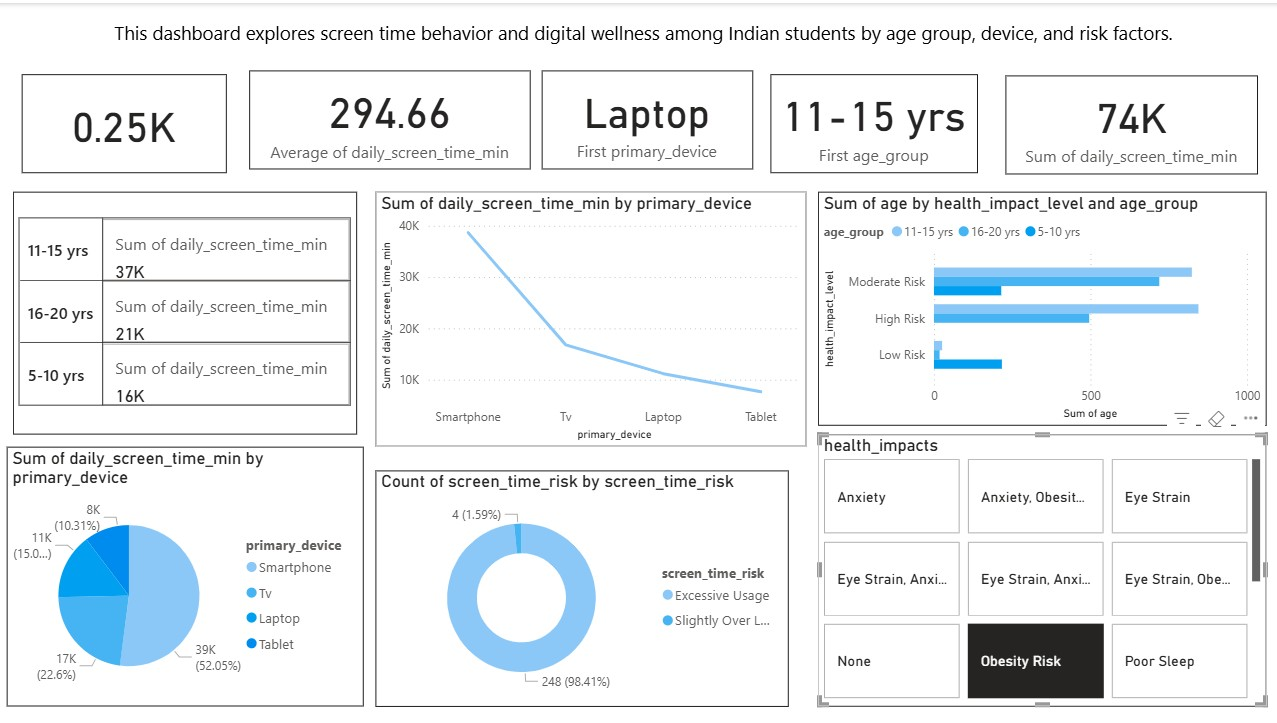

This screenshot's page, from the dashboard's own definition file:
{"tool":"powerbi","page":{"name":"Page 1","canvas":[1280,720],"ordinal":0},"visuals":[{"type":"card","title":"Total no of Kids","fields":{"Values":["CountNonNull(Indian_Kids_Screen_Time_Cleaned.age)"]},"box":[28.8,71.2,203.8,98.8],"z":0},{"type":"card","fields":{"Values":["Avg(Indian_Kids_Screen_Time_Cleaned.daily_screen_time_min)"]},"box":[255,67.5,280,98.8],"z":1},{"type":"card","fields":{"Values":["Min(Indian_Kids_Screen_Time_Cleaned.primary_device)"]},"box":[546.2,67.5,210,98.8],"z":2},{"type":"card","fields":{"Values":["Min(Indian_Kids_Screen_Time_Cleaned.age_group)"]},"box":[773.8,71.2,206.2,98.8],"z":3},{"type":"card","fields":{"Values":["Sum(Indian_Kids_Screen_Time_Cleaned.daily_screen_time_min)"]},"box":[1007.5,72.5,251.2,98.8],"z":4},{"type":"clusteredBarChart","fields":{"Category":["Indian_Kids_Screen_Time_Cleaned.health_impact_level"],"Series":["Indian_Kids_Screen_Time_Cleaned.age_group"],"Y":["Sum(Indian_Kids_Screen_Time_Cleaned.age)"]},"box":[821.2,187.5,446.2,232.5],"z":6},{"type":"advancedSlicerVisual","fields":{"Values":["Indian_Kids_Screen_Time_Cleaned.health_impacts"]},"box":[821.2,428.8,446.2,271.2],"z":7},{"type":"lineChart","fields":{"Category":["Indian_Kids_Screen_Time_Cleaned.primary_device"],"Y":["Sum(Indian_Kids_Screen_Time_Cleaned.daily_screen_time_min)"]},"box":[381.2,187.5,428.8,253.8],"z":8},{"type":"pieChart","fields":{"Y":["Sum(Indian_Kids_Screen_Time_Cleaned.daily_screen_time_min)"],"Category":["Indian_Kids_Screen_Time_Cleaned.primary_device"]},"box":[13.8,441.2,355,258.8],"z":9},{"type":"cardVisual","fields":{"Rows":["Indian_Kids_Screen_Time_Cleaned.age_group"],"Data":["Sum(Indian_Kids_Screen_Time_Cleaned.daily_screen_time_min)"]},"box":[20,187.5,342.5,241.2],"z":10},{"type":"donutChart","fields":{"Category":["Indian_Kids_Screen_Time_Cleaned.screen_time_risk"],"Y":["CountNonNull(Indian_Kids_Screen_Time_Cleaned.screen_time_risk)"]},"box":[381.2,465,411.2,235],"z":11},{"type":"textbox","box":[28.8,12.5,1237.5,41.2],"z":12}]}

Visuals, with their boxes in screenshot pixels (x1, y1, x2, y2), scaled from the page's 1280x720 canvas onto the 1277x723 screenshot:
"Total no of Kids" card: <region>29, 71, 232, 171</region>
card - Avg(Indian_Kids_Screen_Time_Cleaned.daily_screen_time_min): <region>254, 68, 534, 167</region>
card - Min(Indian_Kids_Screen_Time_Cleaned.primary_device): <region>545, 68, 754, 167</region>
card - Min(Indian_Kids_Screen_Time_Cleaned.age_group): <region>772, 71, 978, 171</region>
card - Sum(Indian_Kids_Screen_Time_Cleaned.daily_screen_time_min): <region>1005, 73, 1256, 172</region>
clusteredBarChart - Indian_Kids_Screen_Time_Cleaned.health_impact_level x Indian_Kids_Screen_Time_Cleaned.age_group: <region>819, 188, 1264, 422</region>
advancedSlicerVisual - Indian_Kids_Screen_Time_Cleaned.health_impacts: <region>819, 431, 1264, 703</region>
lineChart - Indian_Kids_Screen_Time_Cleaned.primary_device x Sum(Indian_Kids_Screen_Time_Cleaned.daily_screen_time_min): <region>380, 188, 808, 443</region>
pieChart - Sum(Indian_Kids_Screen_Time_Cleaned.daily_screen_time_min) x Indian_Kids_Screen_Time_Cleaned.primary_device: <region>14, 443, 368, 703</region>
cardVisual - Indian_Kids_Screen_Time_Cleaned.age_group x Sum(Indian_Kids_Screen_Time_Cleaned.daily_screen_time_min): <region>20, 188, 362, 430</region>
donutChart - Indian_Kids_Screen_Time_Cleaned.screen_time_risk x CountNonNull(Indian_Kids_Screen_Time_Cleaned.screen_time_risk): <region>380, 467, 791, 703</region>
textbox: <region>29, 13, 1263, 54</region>
